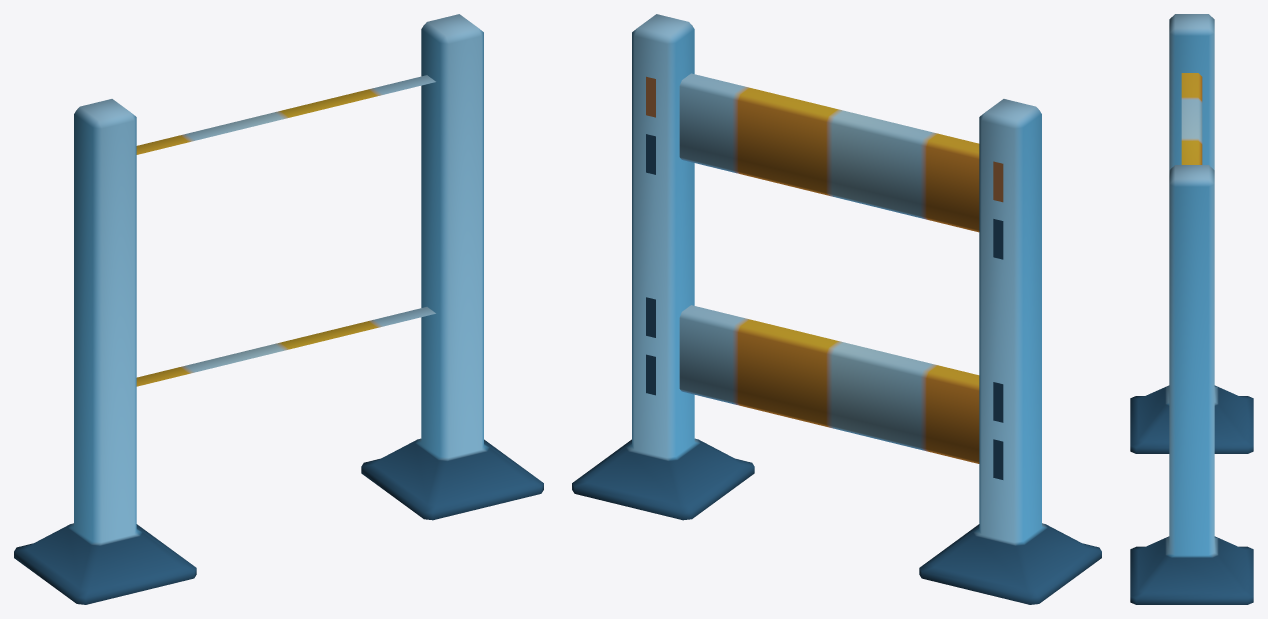
The model's file is RoadWorksBarrier01Night.glb.
The picture shows the model from 3 angles, left to right: view 1: azimuth 30°, elevation 25°; view 2: azimuth 150°, elevation 25°; view 3: azimuth 270°, elevation 25°; orthographic projection. The views are drawn at different scales.
Visible parts, largest first — view 1: RoadWorksBarrier01Night; view 2: RoadWorksBarrier01Night; view 3: RoadWorksBarrier01Night.
Part boxes in pixels (x1=…): RoadWorksBarrier01Night: x1=14, y1=14, x2=543, y2=604; RoadWorksBarrier01Night: x1=572, y1=14, x2=1101, y2=604; RoadWorksBarrier01Night: x1=1130, y1=14, x2=1253, y2=604.
Size of the model in its own units: 1.66 by 1.55 by 0.4257.
